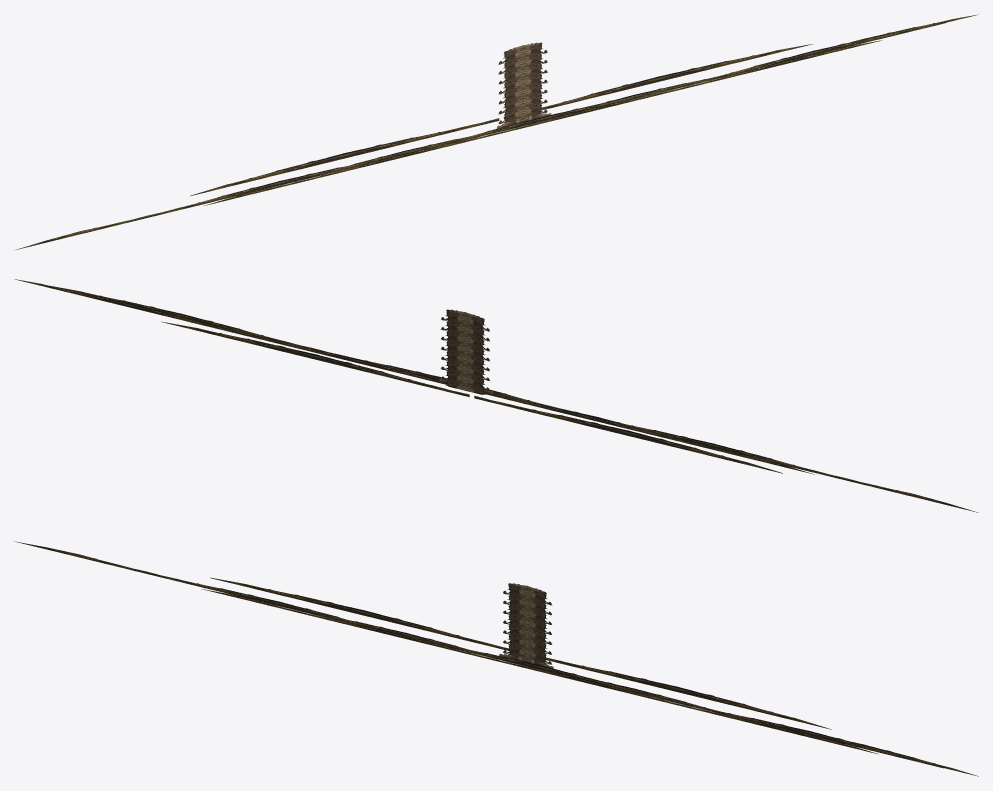
Rendered from Tower_Light.fbx.
The picture shows the model from 3 angles, top to bottom: view 1: azimuth 30°, elevation 25°; view 2: azimuth 150°, elevation 25°; view 3: azimuth 330°, elevation 25°; orthographic projection.
Parts seen in each view (by area): view 1: tower_dark_base, tower_dark, tower_dark_base03, tower_dark_base02; view 2: tower_dark_base, tower_dark, tower_dark_base02; view 3: tower_dark_base, tower_dark, tower_dark_base03, tower_dark_base02.
Boxes of the visible parts, box(x1,y1,x2,y2) form: tower_dark_base: box(16, 22, 945, 249); tower_dark: box(498, 42, 547, 124); tower_dark_base03: box(204, 40, 881, 205); tower_dark_base02: box(351, 14, 978, 165); tower_dark_base: box(51, 286, 978, 512); tower_dark: box(440, 309, 489, 394); tower_dark_base02: box(14, 279, 814, 474); tower_dark_base: box(14, 541, 943, 768); tower_dark: box(503, 583, 552, 664); tower_dark_base03: box(201, 589, 878, 754); tower_dark_base02: box(351, 620, 978, 776).
Size of the model in its own units: 150 by 11.82 by 2.93.
Materials: 1 (1 with a texture image).
